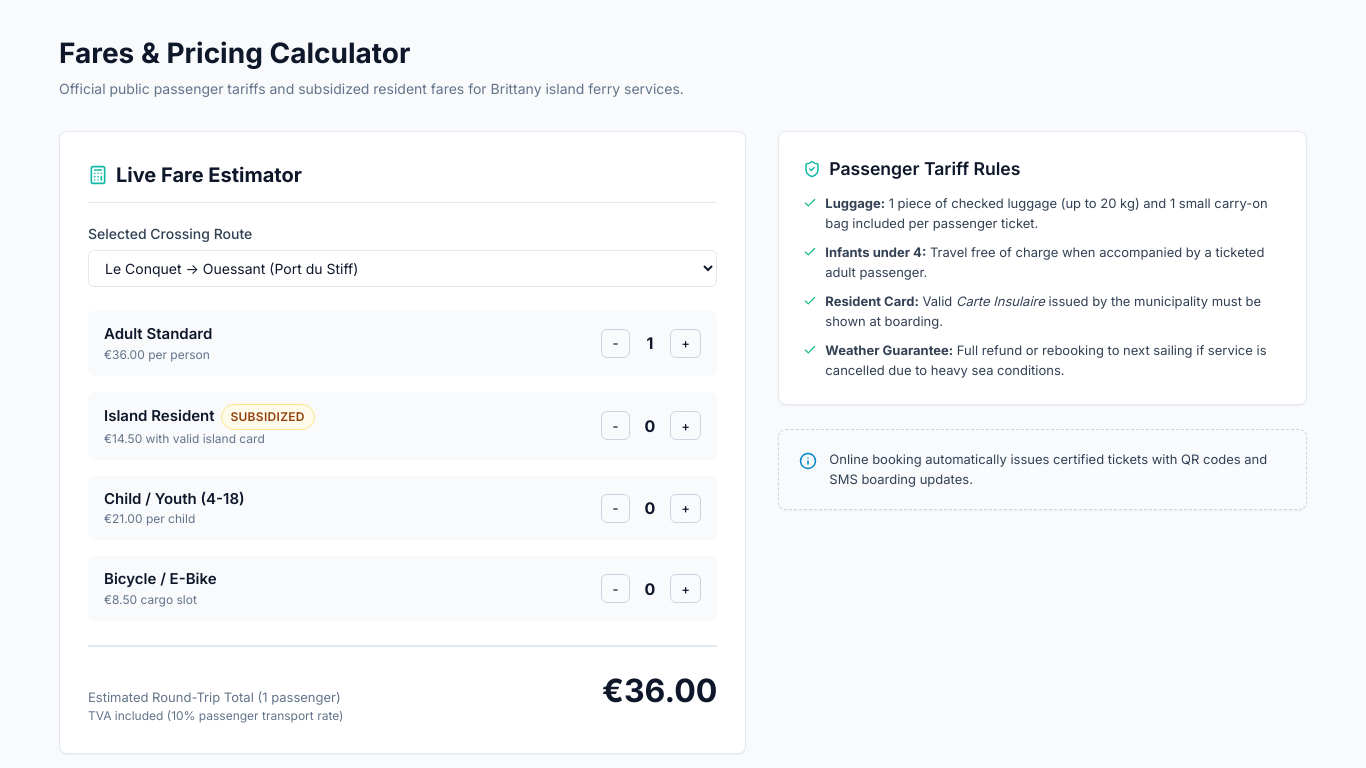
Test: FaresPage Component › recalculates total when changing routes
Select "Brest → Ouessant (Port du Stiff)" in the dropdown labelled "Selected Crossing Route" at [403, 268], box [88,250,717,287]
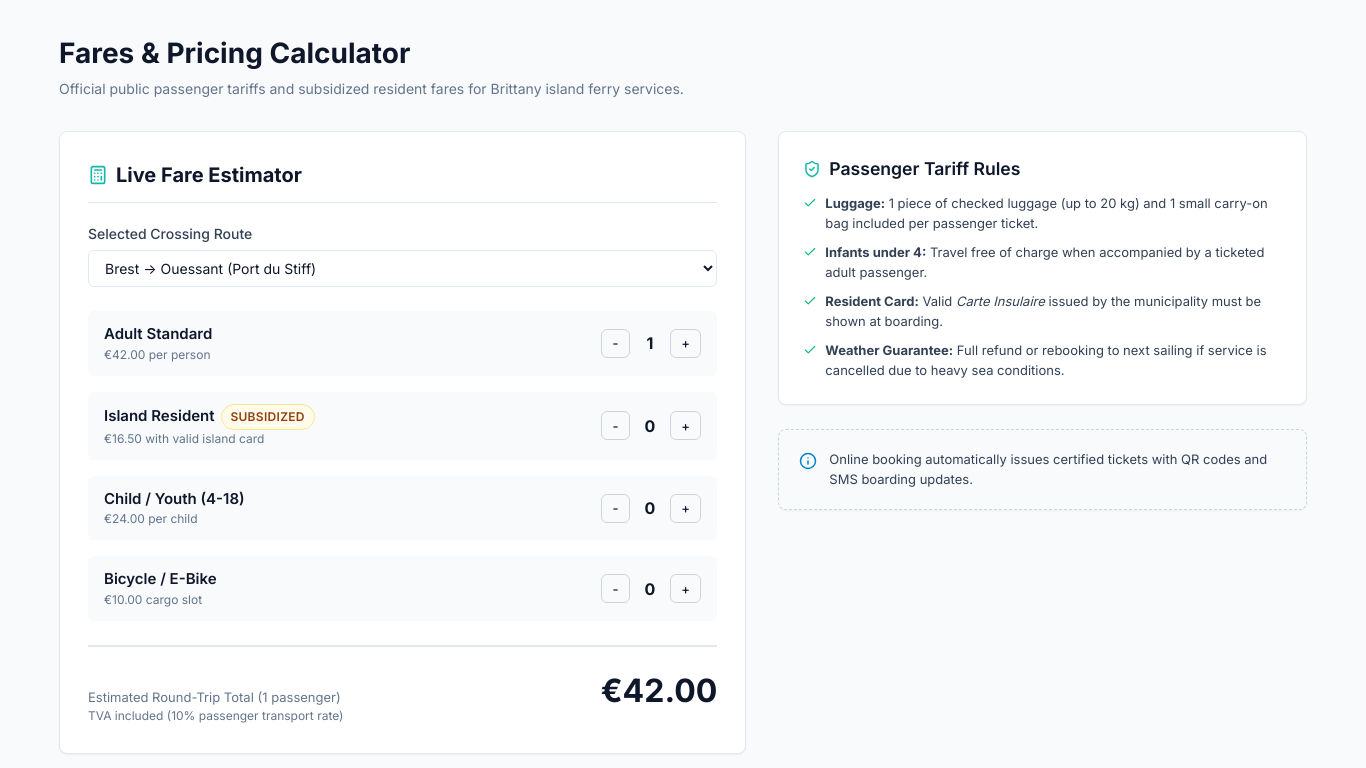
Expected: the text "€42.00" is shown, [601,667,717,715]
